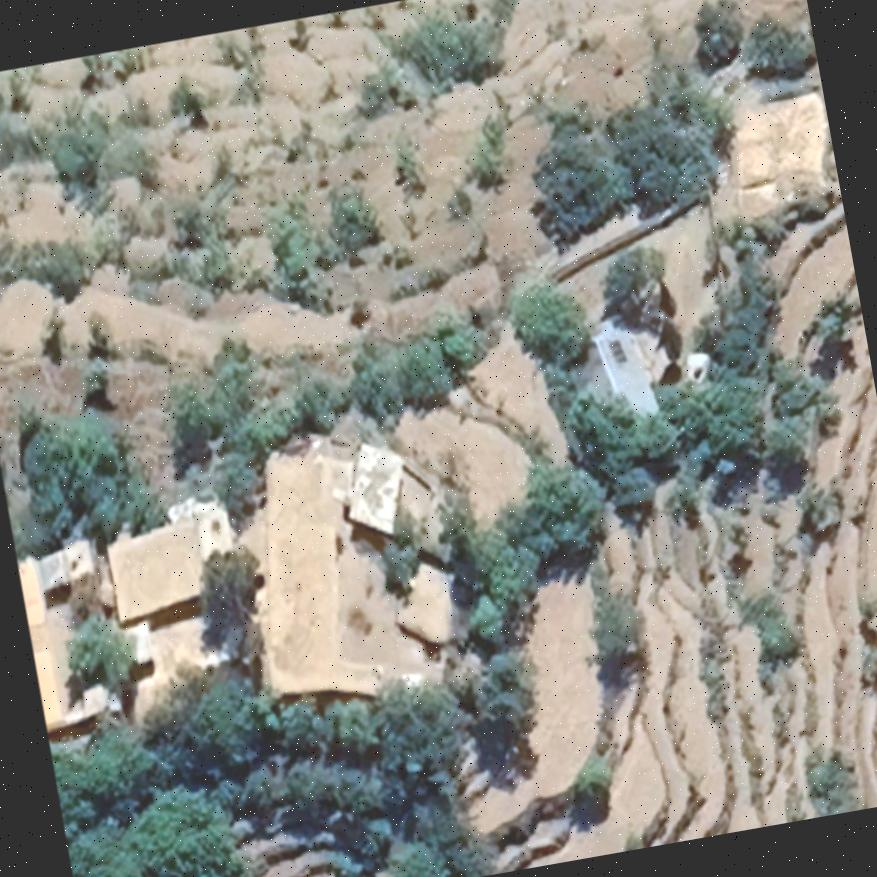Solarpanel: (600, 331, 632, 371)
